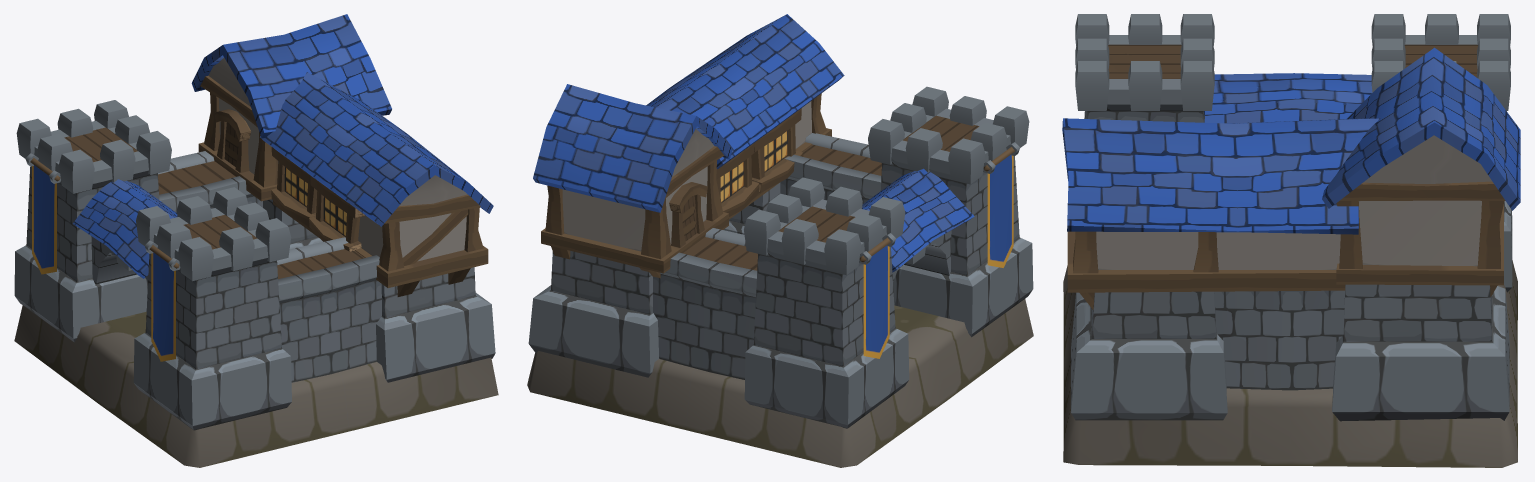
Rendered from Barracks.FBX.
The picture shows the model from 3 angles, left to right: view 1: azimuth 30°, elevation 25°; view 2: azimuth 150°, elevation 25°; view 3: azimuth 270°, elevation 25°; orthographic projection. The views are drawn at different scales.
Parts seen in each view (by area): view 1: Barracks; view 2: Barracks; view 3: Barracks.
Part boxes in pixels (left/top/right/bottom): Barracks: left=14, top=14, right=498, bottom=467; Barracks: left=527, top=14, right=1033, bottom=467; Barracks: left=1062, top=14, right=1520, bottom=467.
Bounding box in the file's own units: 662 × 541 × 664.
